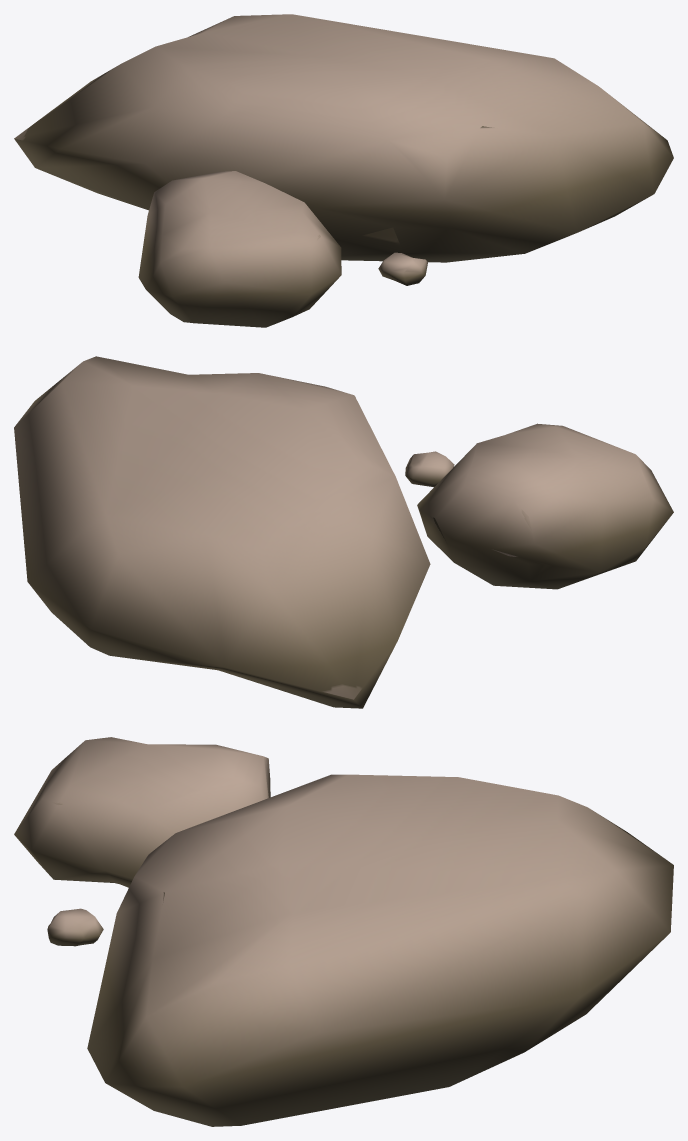
The model's file is Stone3.fbx.
3 renders of one model, top to bottom at view 1: azimuth 30°, elevation 25°; view 2: azimuth 150°, elevation 25°; view 3: azimuth 270°, elevation 25°, orthographic. The views are drawn at different scales.
Visible parts, largest first — view 1: Stone3.003; view 2: Stone3.003; view 3: Stone3.003.
Part boxes in pixels (x1,y1,x2,y2): Stone3.003: [14, 14, 673, 327]; Stone3.003: [14, 356, 673, 708]; Stone3.003: [14, 737, 673, 1126].
Bounding box in the file's own units: 279 × 89.33 × 247.
